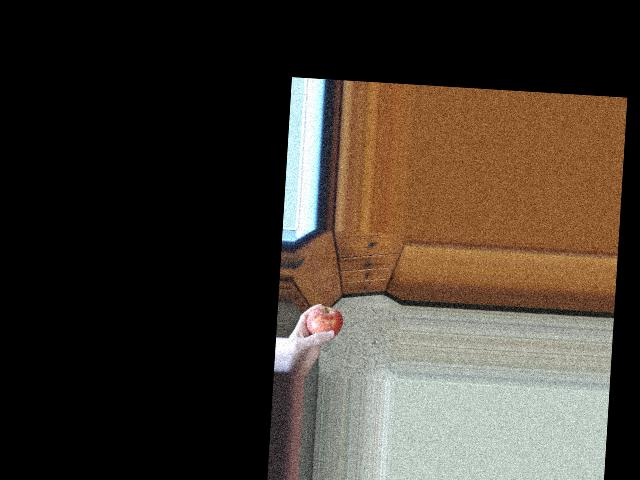apple: (300, 302, 344, 345)
